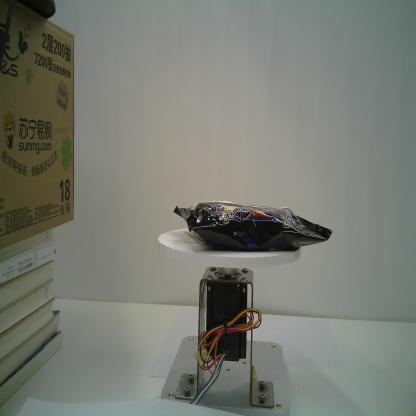Instant Noodles: (173, 200, 333, 254)
